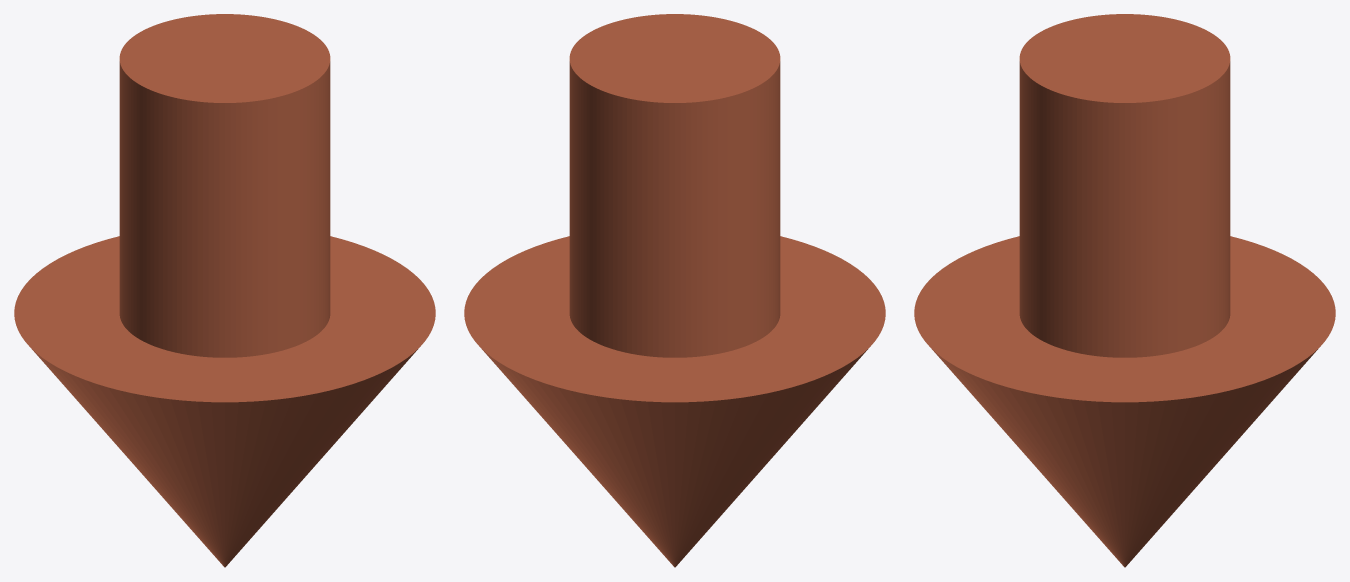
Rendered from fleche.glb.
3 views of the same model, side by side, from view 1: azimuth 30°, elevation 25°; view 2: azimuth 150°, elevation 25°; view 3: azimuth 270°, elevation 25° (orthographic).
Size of the model in its own units: 0.06 by 0.08 by 0.06.
